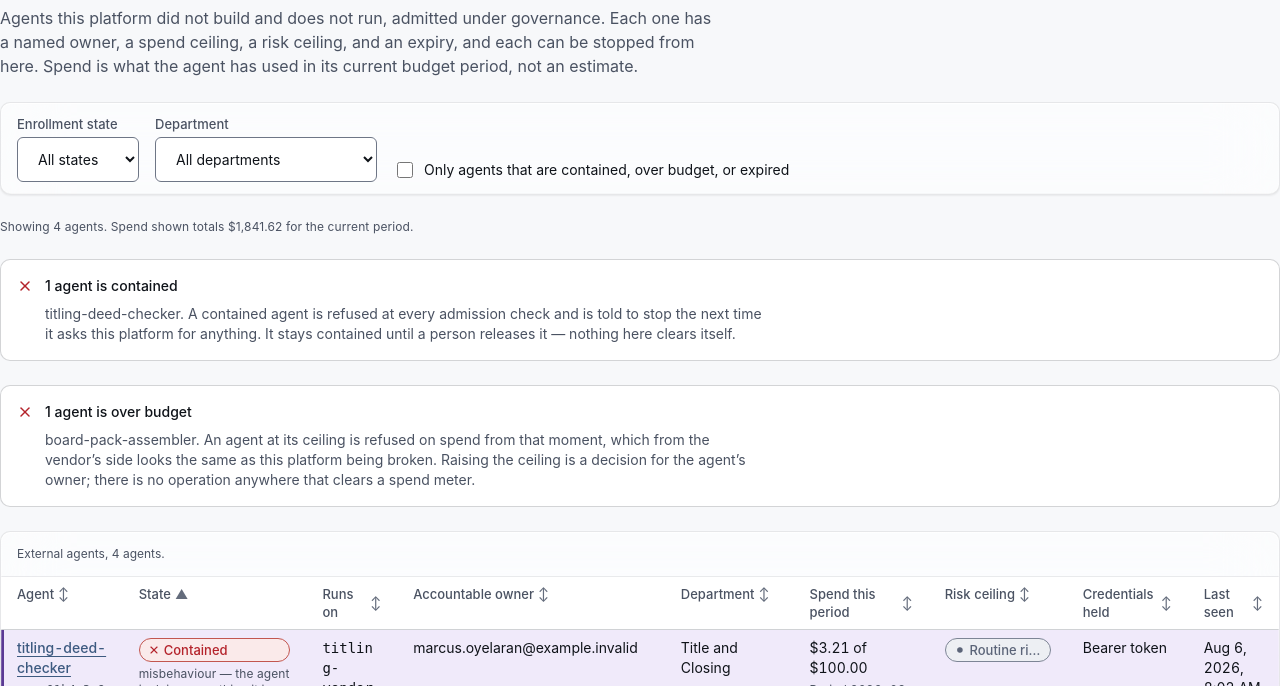
Test: ExternalAgents › filters to one enrollment state
This screenshot has width=1280, height=686.
Select "Contained" in the dropdown labelled "Enrollment state" at (78, 160), box [17,137,139,182]
(page scrolled)
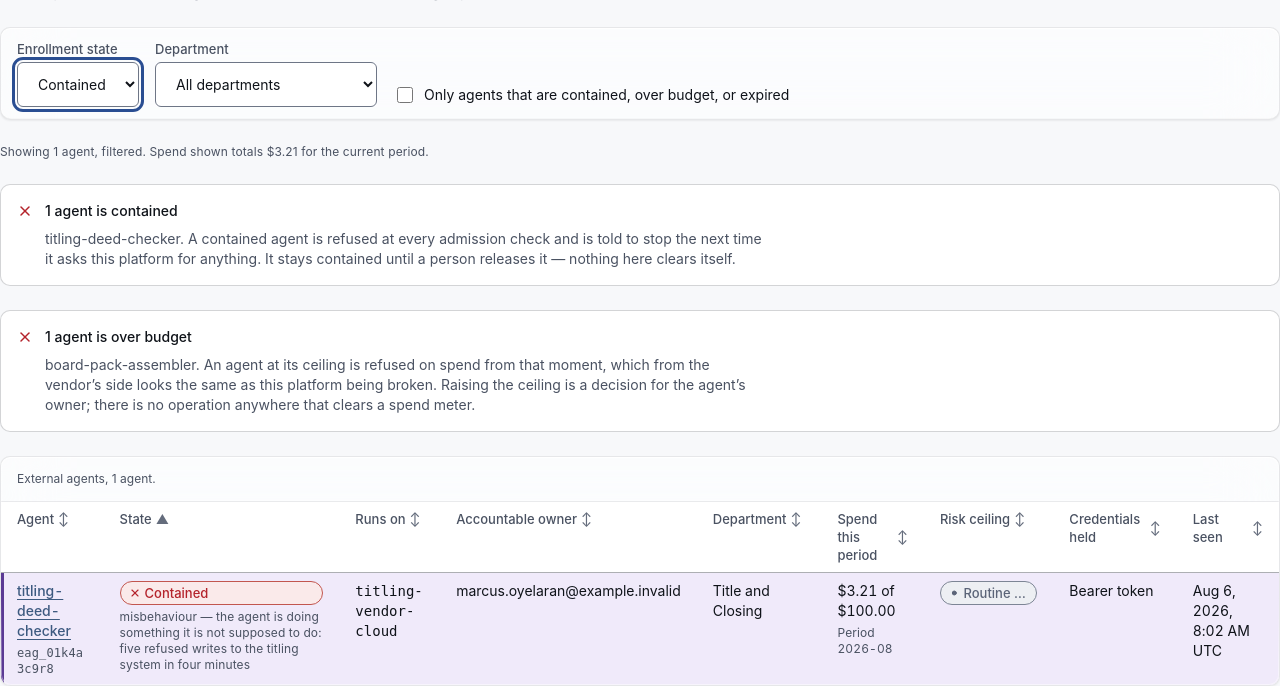
Expected: the link "titling-deed-checker" is shown, [17,582,71,639]
Now the number of rows is 2, box [1,502,1279,572]; [1,572,1279,685]
